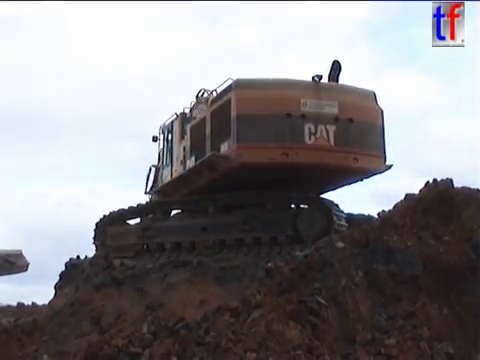excavator: (90, 57, 398, 265)
truck: (1, 247, 33, 279)
